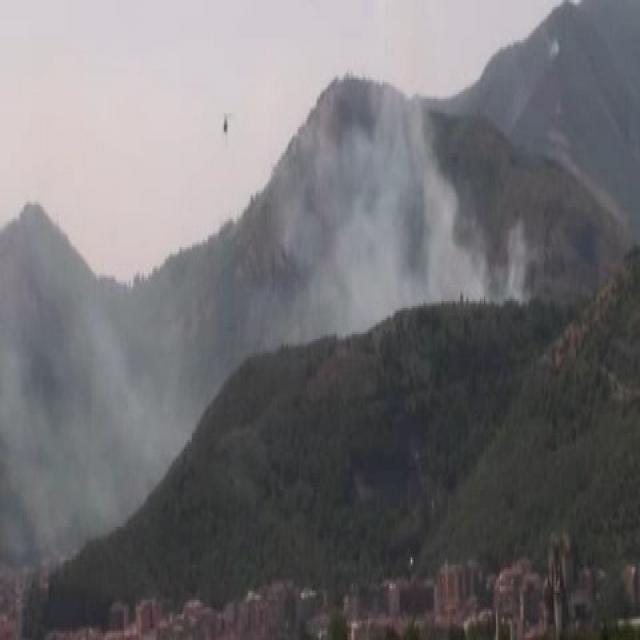smoke: (282, 139, 524, 320), (19, 301, 178, 502)
